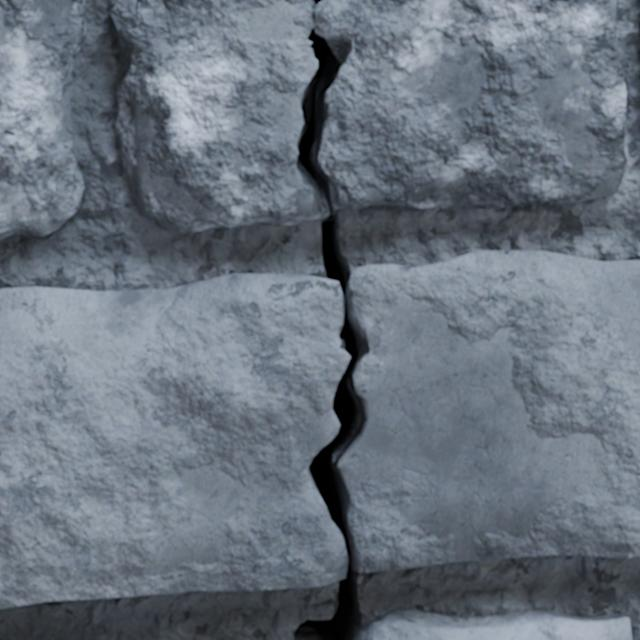broken_brick: (110, 0, 627, 237), (0, 272, 349, 608), (338, 251, 639, 572), (358, 608, 631, 639)
crack: (291, 28, 368, 639), (0, 0, 85, 240), (473, 547, 575, 553), (307, 0, 322, 11), (607, 5, 610, 54), (607, 182, 612, 195)
